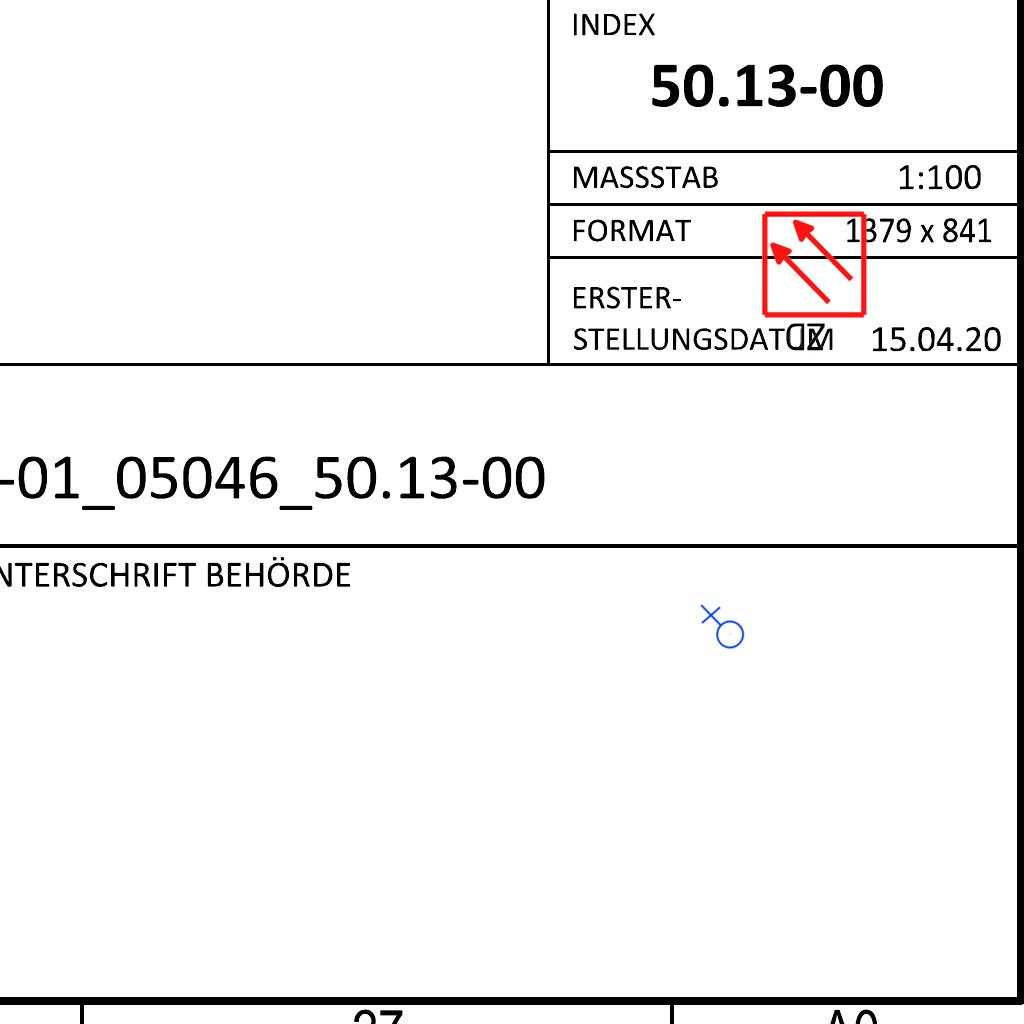Elektroanschluss_allgemein_230V_Geraeteanschlussdose_230V: (698, 604, 745, 653)
ZD_Melder_in_Zwischendecke_mit_Revisionsoeffnung_mind_40_x_40_cm: (759, 209, 873, 358)
